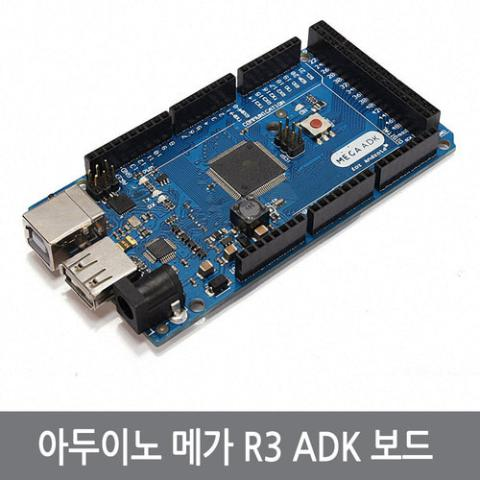Arduino-Mega: (18, 13, 464, 359)
